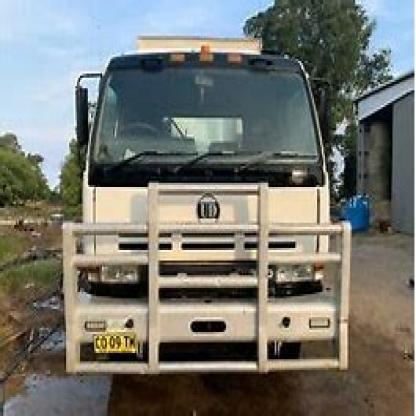dump_truck: (51, 36, 382, 382)
